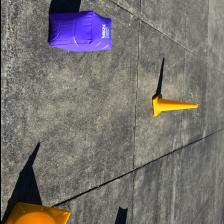cone: (4, 202, 70, 224), (151, 94, 197, 116)
cube: (47, 11, 112, 52)
